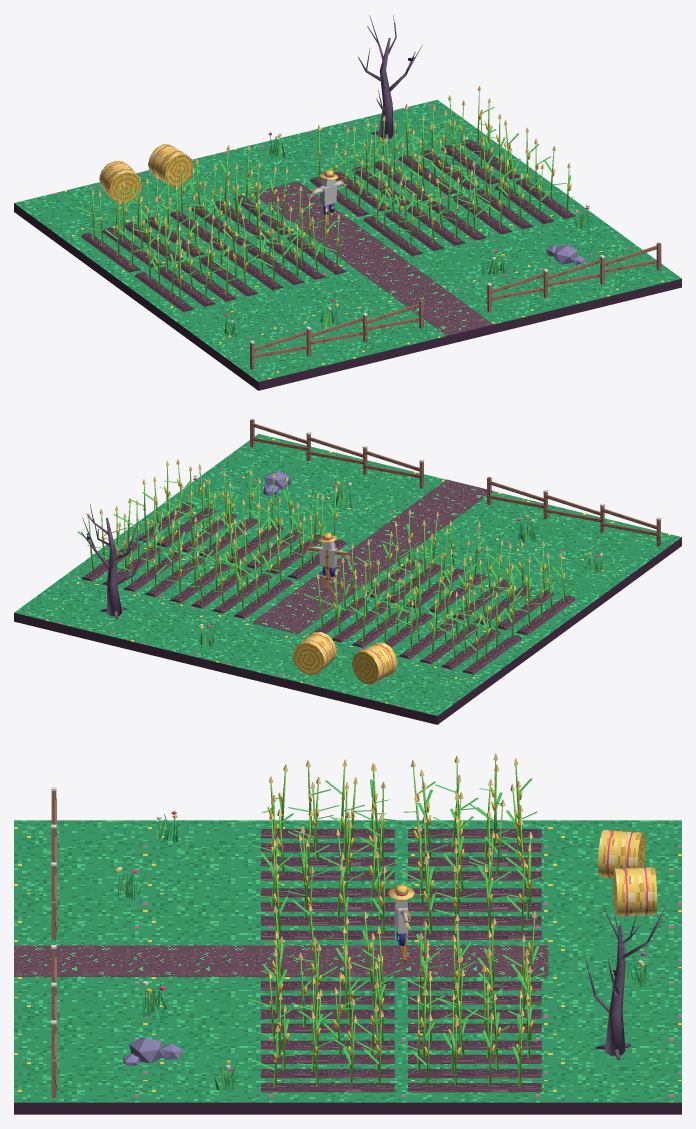
Rendered from Block Cornfield.fbx.
The picture shows the model from 3 angles, top to bottom: view 1: azimuth 30°, elevation 25°; view 2: azimuth 150°, elevation 25°; view 3: azimuth 270°, elevation 25°; orthographic projection. The views are drawn at different scales.
Visible parts, largest first — view 1: Block Cornfield mesh; view 2: Block Cornfield mesh; view 3: Block Cornfield mesh.
Part boxes in pixels (x1,y1,x2,y2): Block Cornfield mesh: (14,14,681,390); Block Cornfield mesh: (14,419,681,724); Block Cornfield mesh: (14,753,681,1114).
Size of the model in its own units: 20 by 5.45 by 20.
